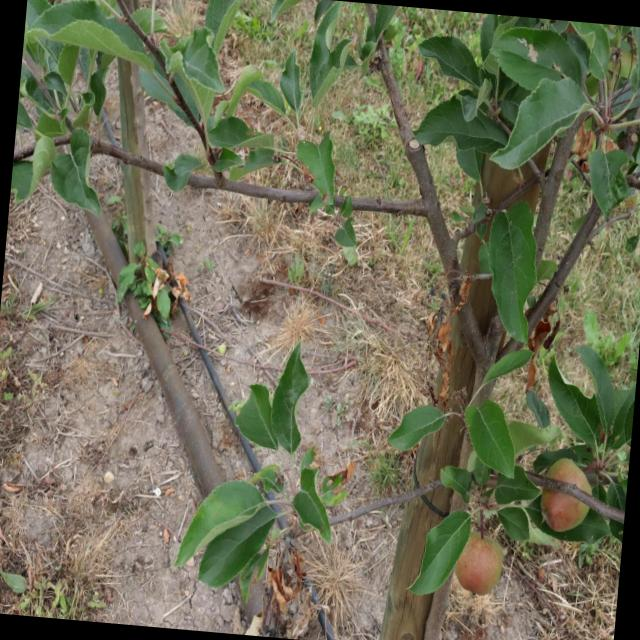-FireBlight-: (262, 534, 304, 617), (526, 304, 560, 379), (567, 119, 596, 168)
